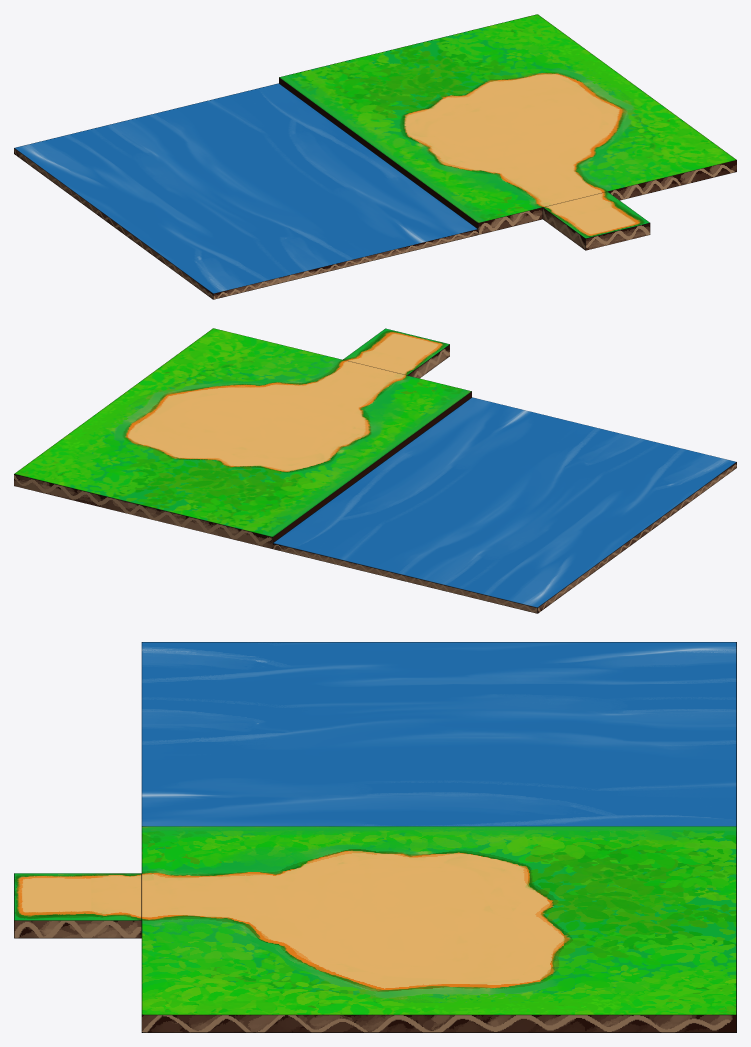
File: stage01_PARK.fbx
3 renders of one model, top to bottom at view 1: azimuth 30°, elevation 25°; view 2: azimuth 150°, elevation 25°; view 3: azimuth 270°, elevation 25°, orthographic. The views are drawn at different scales.
Parts seen in each view (by area): view 1: Cube; view 2: Cube; view 3: Cube.
Boxes of the visible parts, box(x1,y1,x2,y2) form: Cube: box(14, 14, 736, 299); Cube: box(14, 328, 736, 613); Cube: box(14, 642, 736, 1032).
Bounding box in the file's own units: 4552 × 100 × 3643.
Materials: 1 (1 with a texture image).
